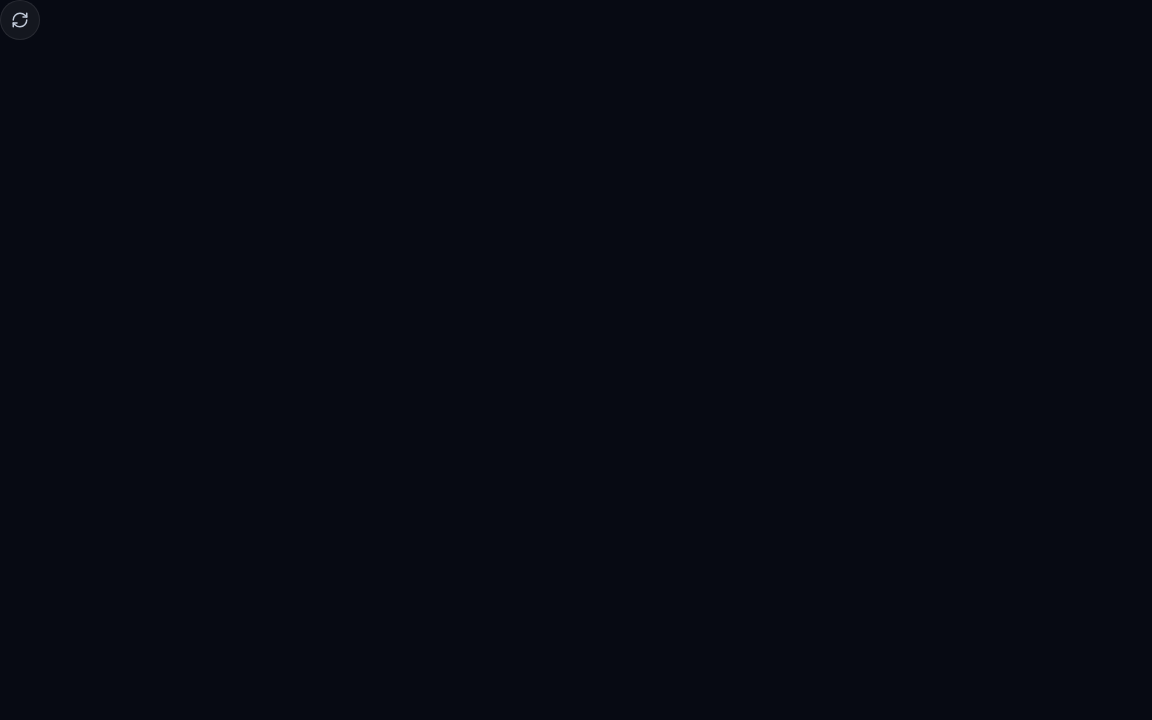
Test: SyncIndicator › stays in the toolbar with nothing connected, and says why
The width and height of the screenshot is (1152, 720).
Click the button named "État de la synchronisation : Jamais synchronisé" at (20, 20), box [0,0,40,40]
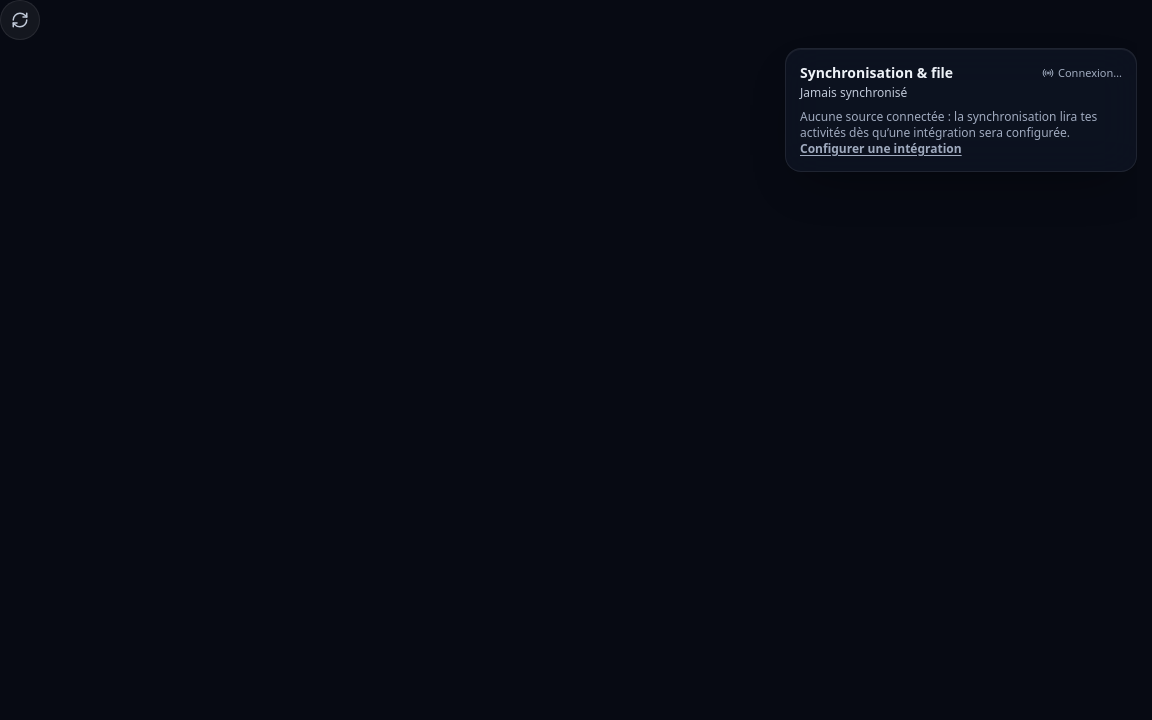
Check: the text "Aucune source connectée" is shown, box [800,108,1097,141]
Check: the text "Configurer une intégration" is shown, box [800,140,962,157]
